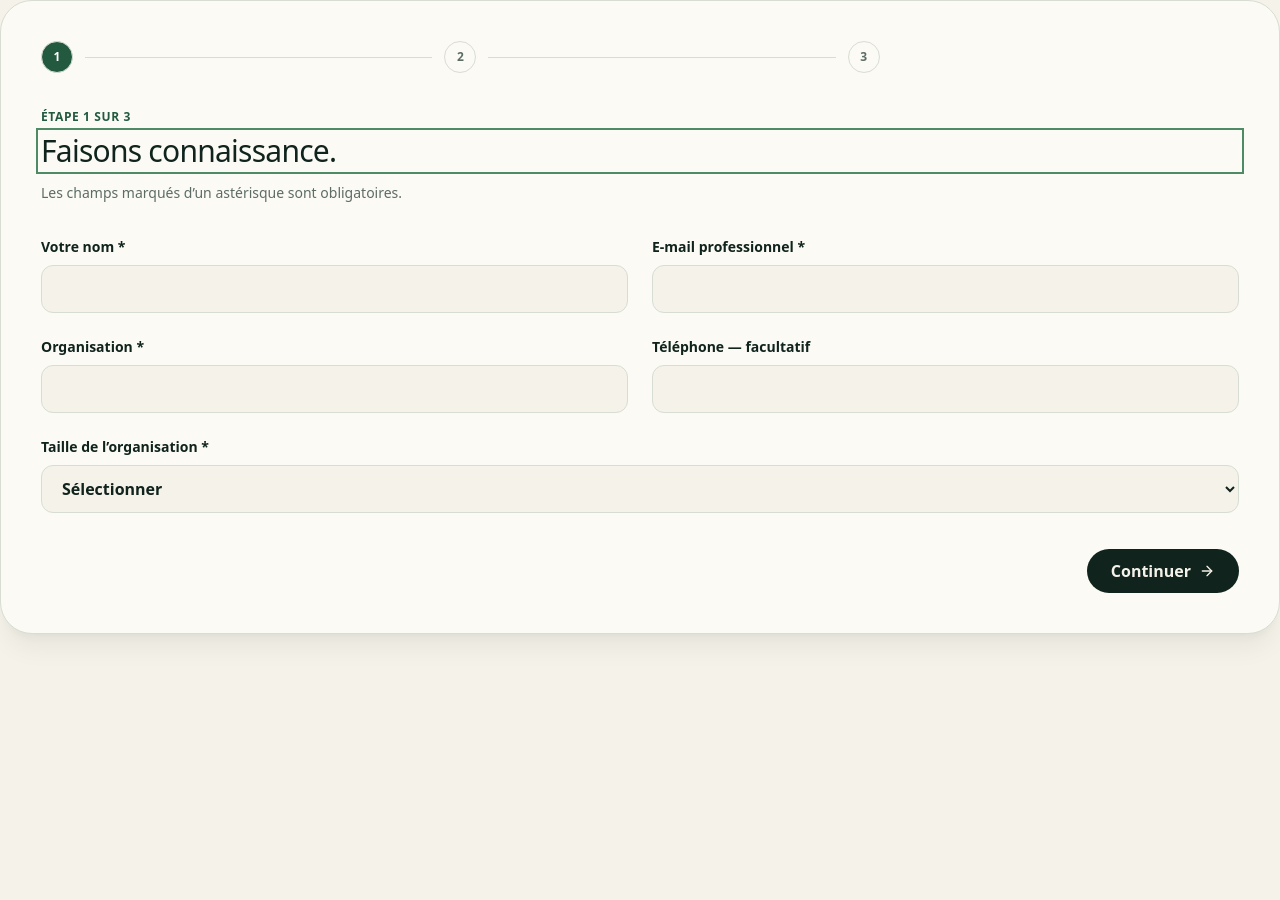
Test: BookingForm › avance vers la qualification après une première étape valide
In the field labelled "Votre nom *": (334, 289) 41,265 -> 628,313, type "Alex Martin"
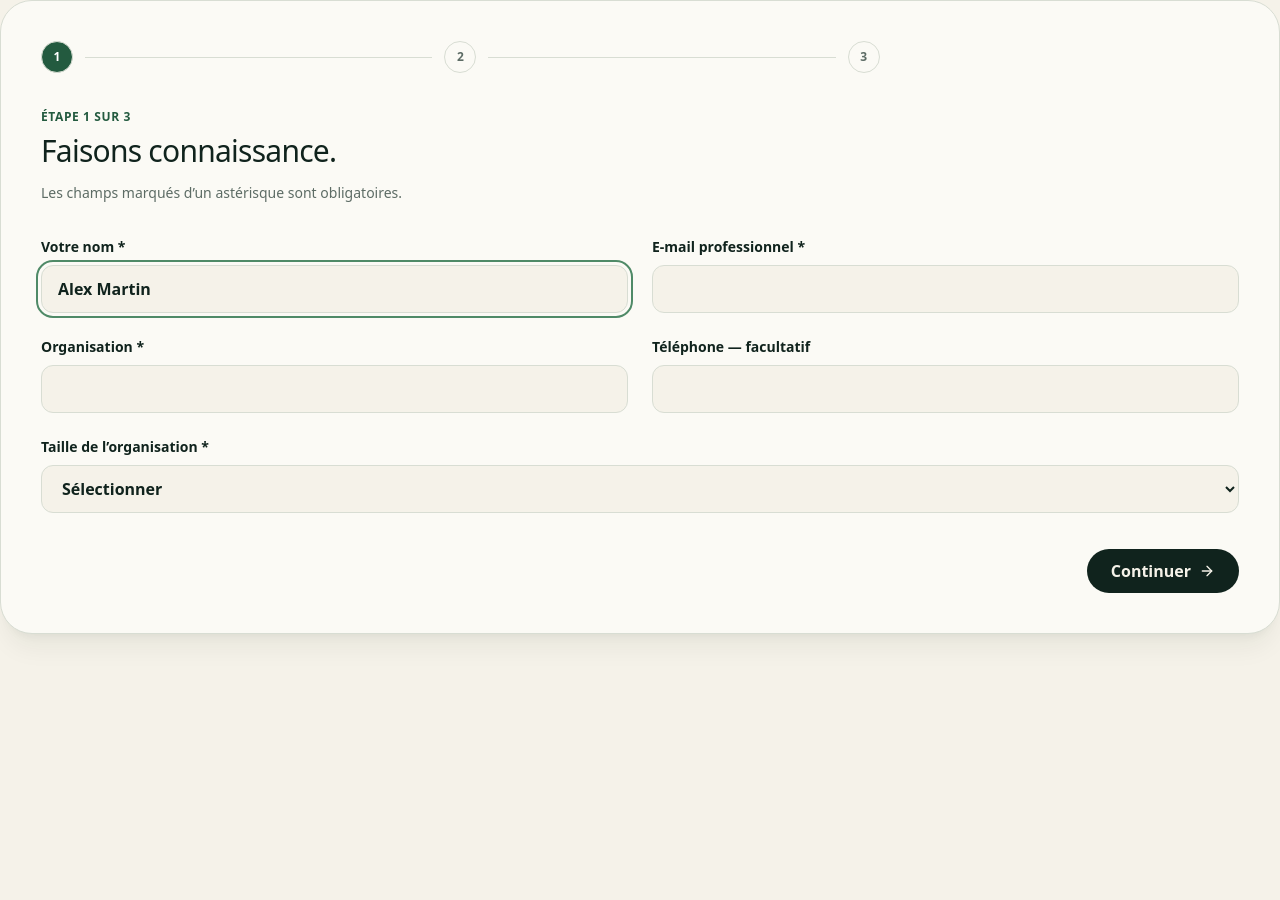
In the field labelled "E-mail professionnel *": (946, 289) 652,265 -> 1239,313, type "alex@example.com"
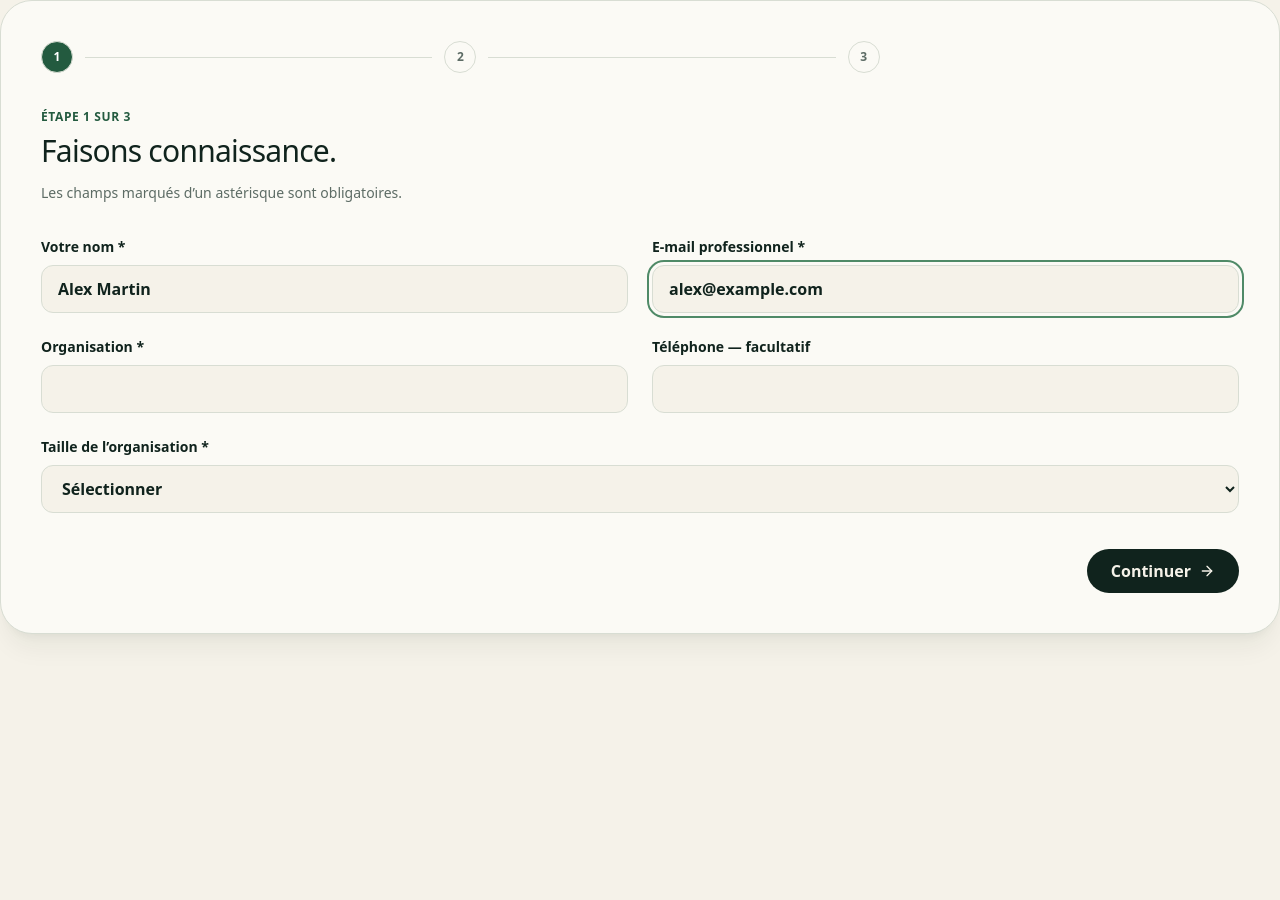
In the field labelled "Organisation *": (334, 389) 41,365 -> 628,413, type "Atelier Exemple"
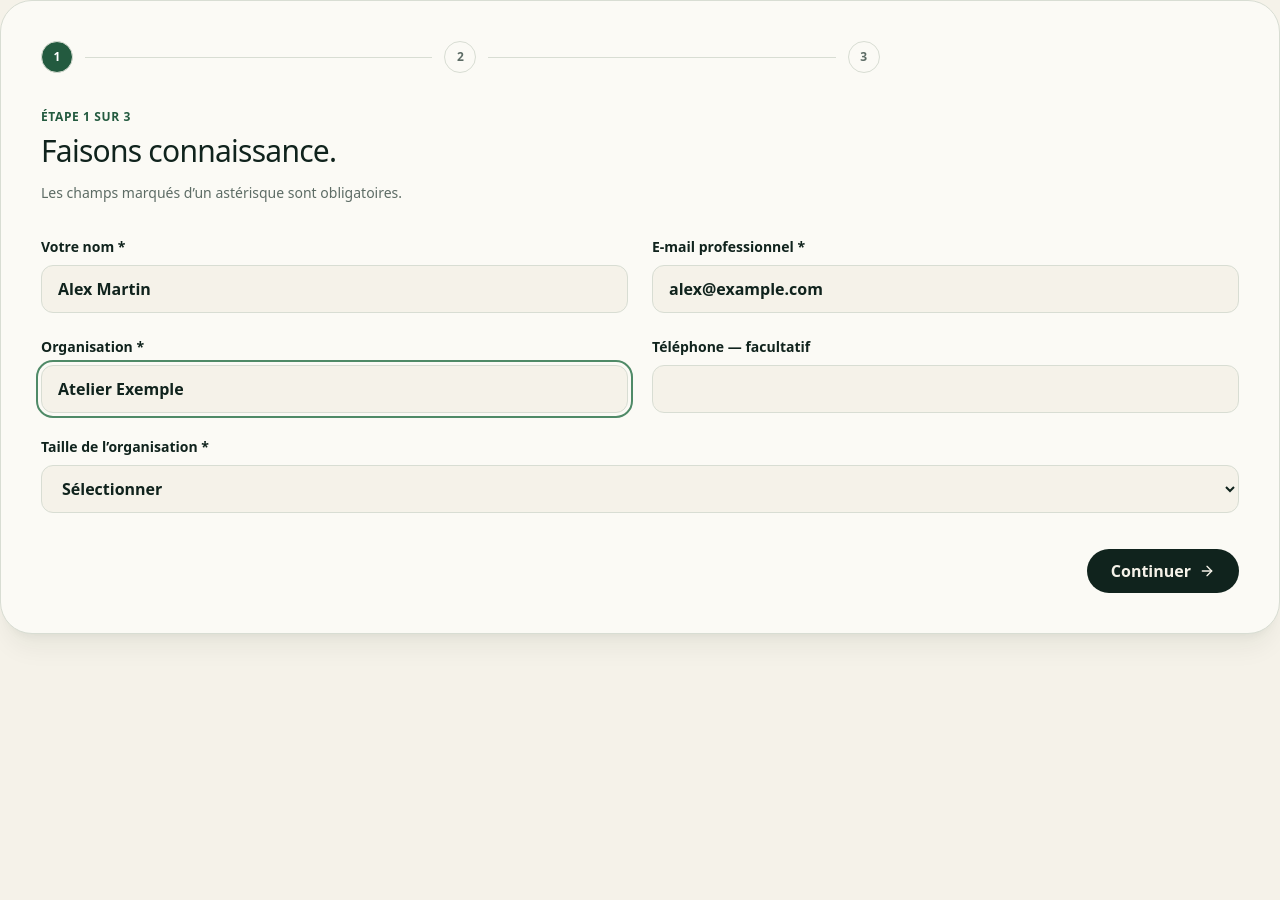
Select "PME — 10 à 249 personnes" in the dropdown labelled "Taille de l’organisation *": (640, 489) 41,465 -> 1239,513
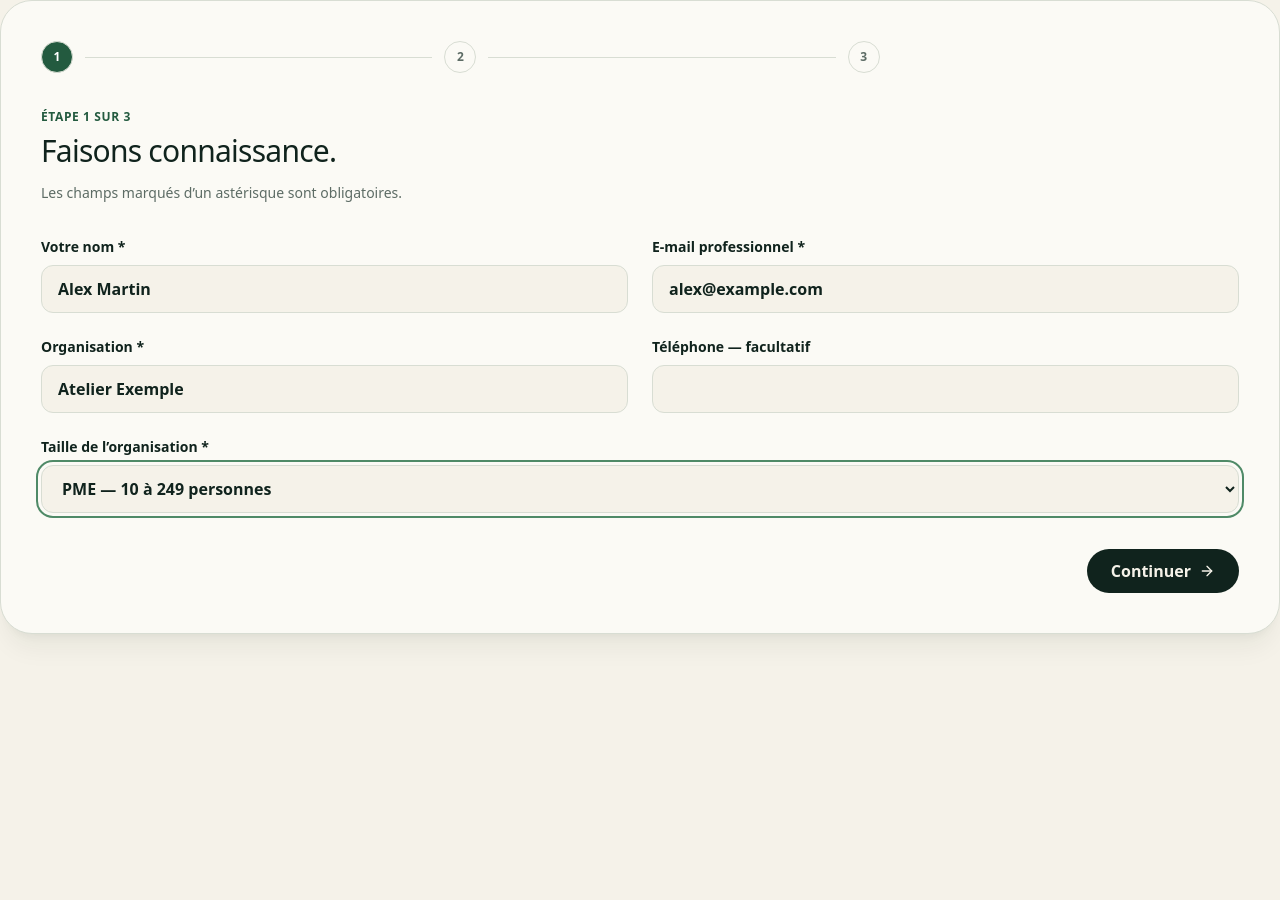
Click the button "Continuer": (1163, 571) 1087,549 -> 1239,593
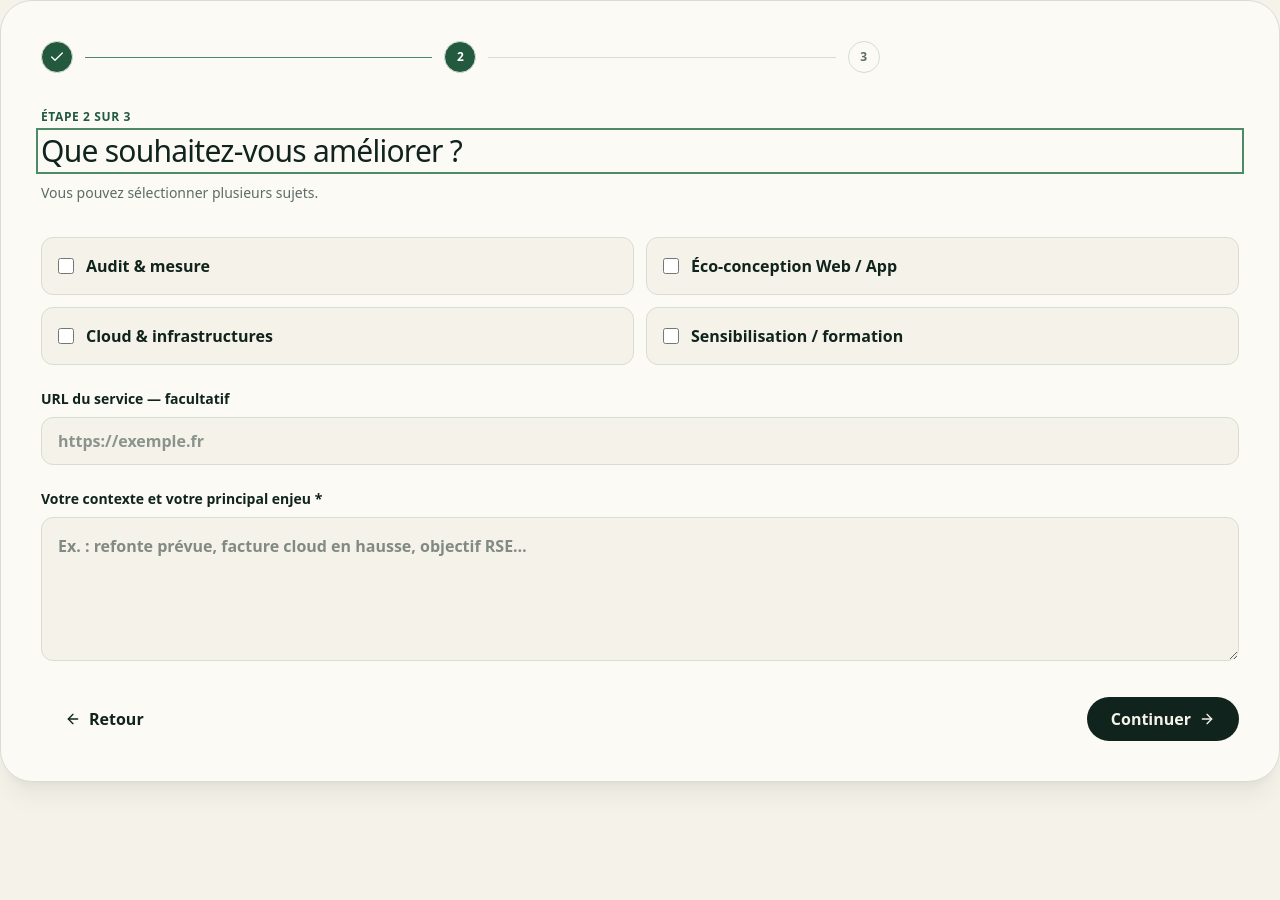
Now the heading "Que souhaitez-vous améliorer ?" is shown, box 41,130 -> 462,171
